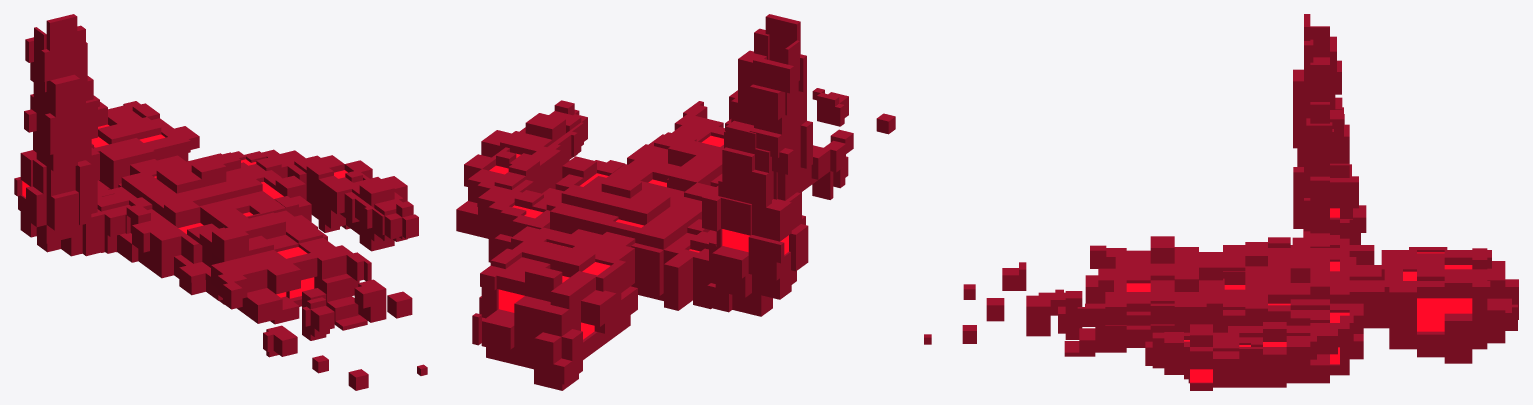
Rendered from enemyShooterModel.fbx.
The picture shows the model from 3 angles, left to right: view 1: azimuth 30°, elevation 25°; view 2: azimuth 150°, elevation 25°; view 3: azimuth 270°, elevation 25°; orthographic projection. The views are drawn at different scales.
Visible parts, largest first — view 1: Cube.031; view 2: Cube.031; view 3: Cube.031.
Boxes of the visible parts, bbox=[...] form: Cube.031: bbox=[14, 14, 427, 390]; Cube.031: bbox=[456, 14, 895, 390]; Cube.031: bbox=[924, 14, 1518, 390].
Size of the model in its own units: 228 by 195 by 378.
